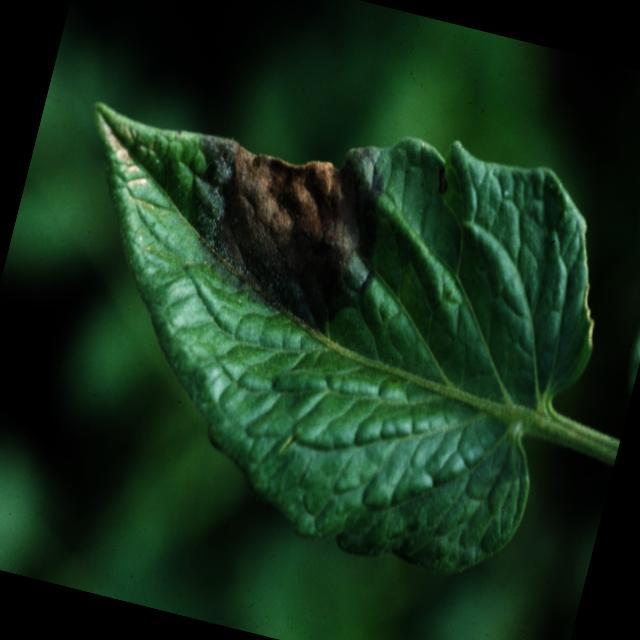Tomato late blight leaf: (1, 52, 634, 600)
